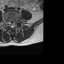CCS_normal: (11, 19, 13, 29)
LFS_severe_stenosis: (15, 19, 17, 25)
LLS_normal: (13, 20, 15, 28)
RFS_normal: (7, 19, 9, 25)
RLS_normal: (9, 19, 11, 28)
